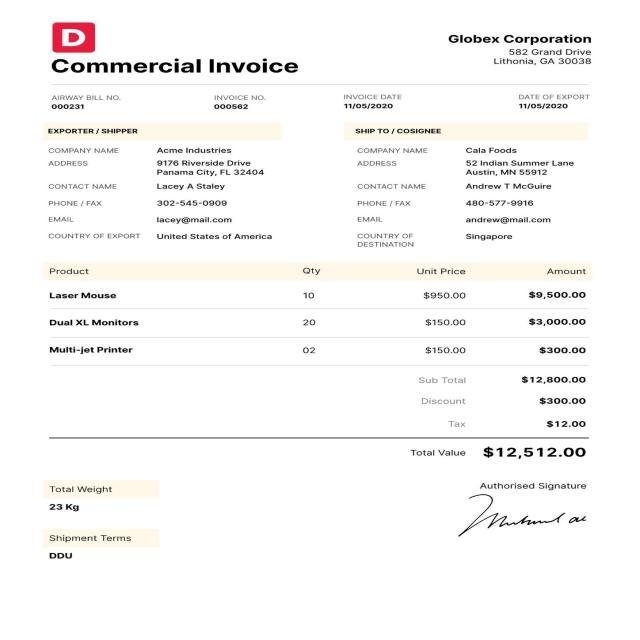ROI: (29, 256, 611, 366), (339, 120, 600, 256), (30, 121, 299, 251), (400, 370, 613, 470), (26, 467, 188, 572), (441, 472, 618, 552), (428, 26, 606, 74), (37, 56, 331, 80), (506, 86, 597, 114), (34, 89, 126, 115), (198, 88, 286, 114), (330, 88, 420, 110)
